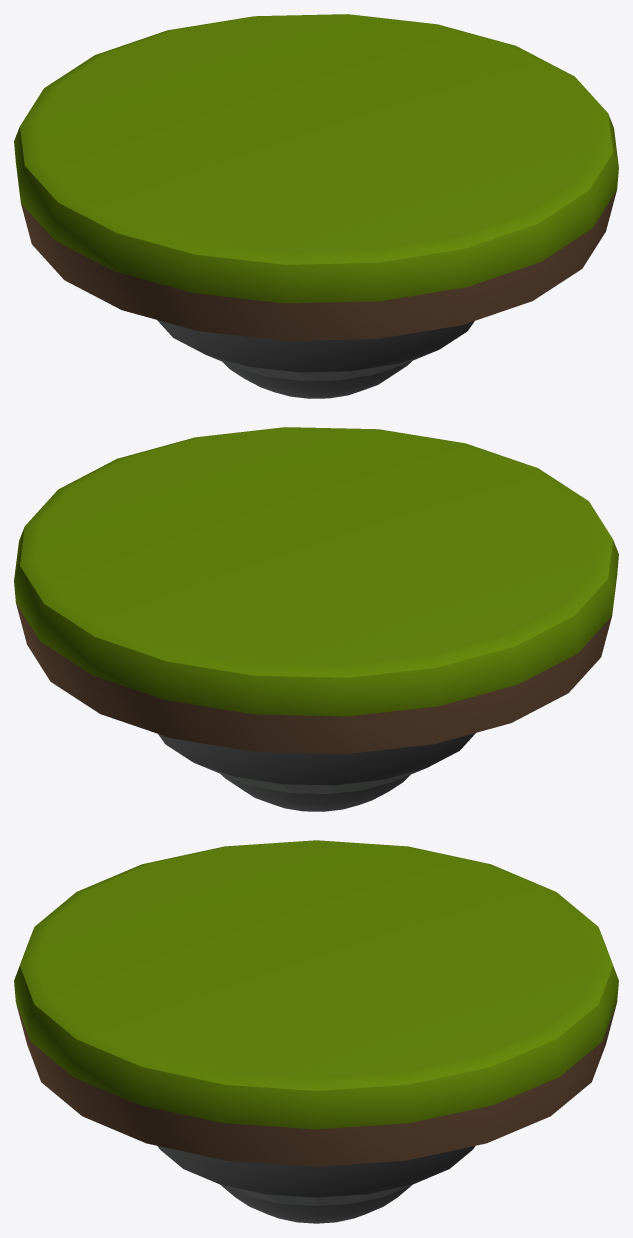
Rendered from Island.glb.
3 renders of one model, top to bottom at view 1: azimuth 30°, elevation 25°; view 2: azimuth 150°, elevation 25°; view 3: azimuth 270°, elevation 25°, orthographic.
Parts seen in each view (by area): view 1: pSphere1; view 2: pSphere1; view 3: pSphere1.
Part boxes in pixels (x1,y1,x2,y2): pSphere1: (14, 14, 618, 398); pSphere1: (14, 427, 618, 811); pSphere1: (14, 840, 618, 1223).
Size of the model in its own units: 19.88 by 9.11 by 19.88.
